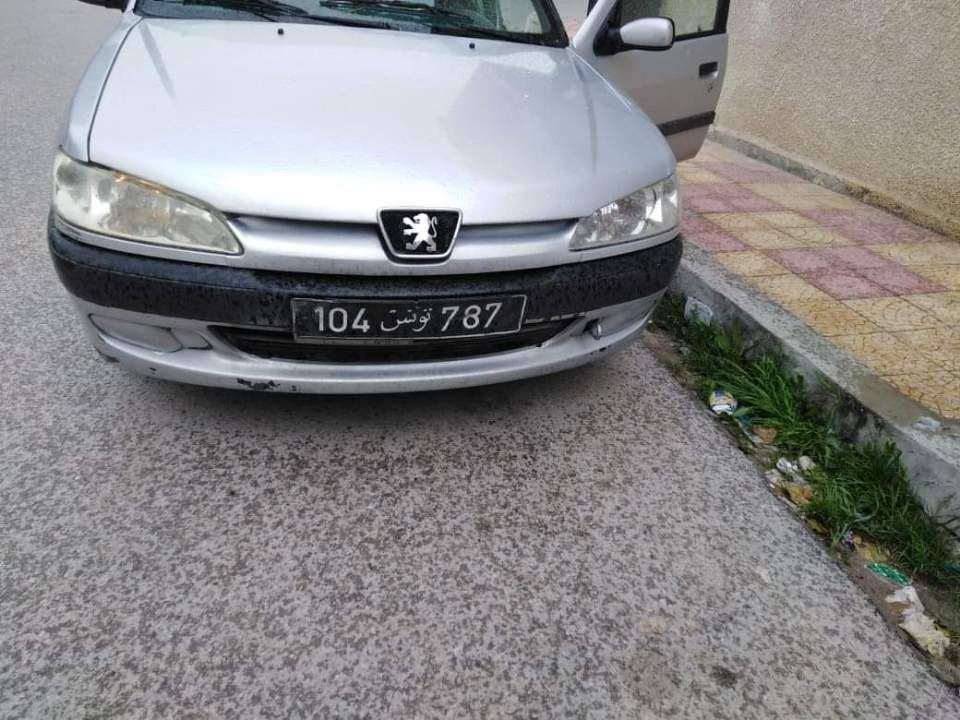LP: (289, 297, 521, 338)
